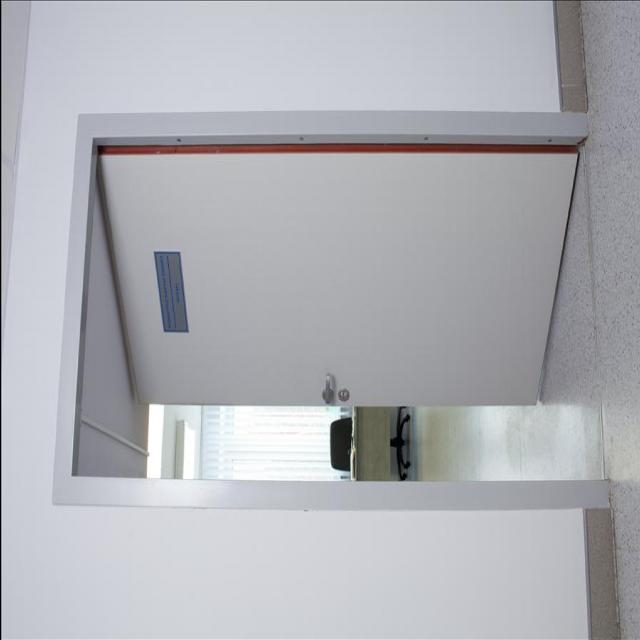open: (94, 134, 584, 504)
